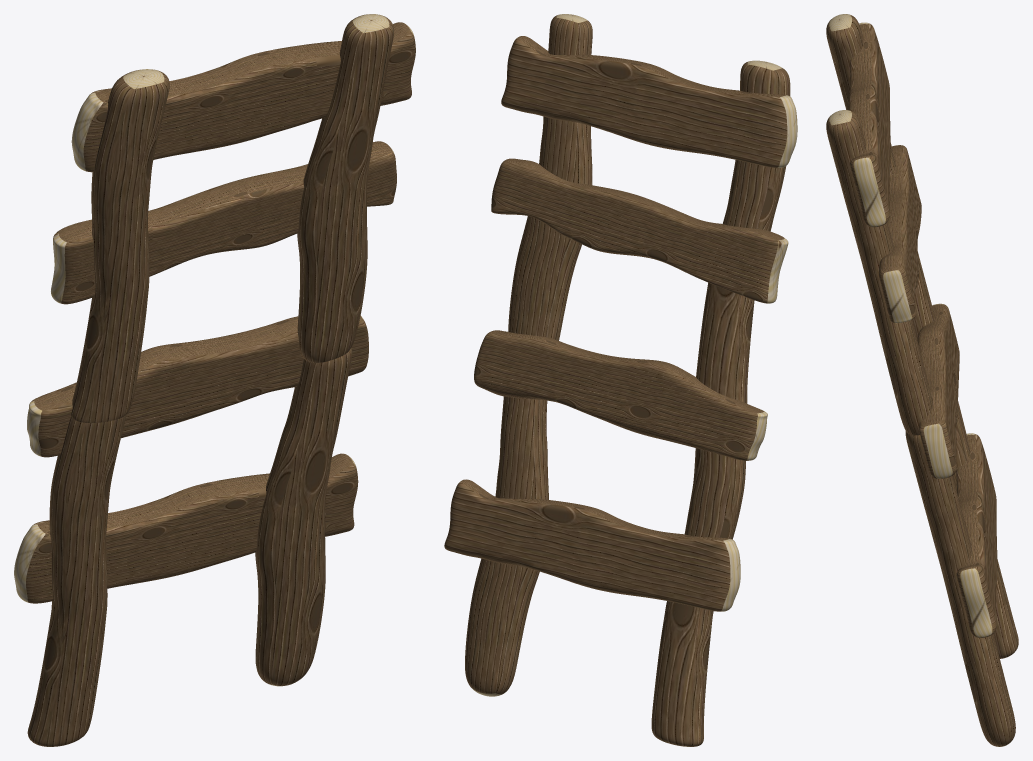
Rendered from CartoonLadder.fbx.
The picture shows the model from 3 angles, left to right: view 1: azimuth 30°, elevation 25°; view 2: azimuth 150°, elevation 25°; view 3: azimuth 270°, elevation 25°; orthographic projection. The views are drawn at different scales.
Visible parts, largest first — view 1: Mesh.003, Mesh, Mesh.002, Mesh.001; view 2: Mesh.001, Mesh.002, Mesh, Mesh.003; view 3: Mesh.001, Mesh.002, Mesh.003, Mesh.
Part boxes in pixels (left/top/right/bottom): Mesh.003: left=71, top=14, right=393, bottom=423; Mesh: left=27, top=347, right=352, bottom=746; Mesh.002: left=51, top=22, right=415, bottom=304; Mesh.001: left=14, top=315, right=368, bottom=603; Mesh.001: left=444, top=330, right=767, bottom=611; Mesh.002: left=491, top=36, right=797, bottom=303; Mesh: left=465, top=396, right=745, bottom=746; Mesh.003: left=508, top=14, right=790, bottom=403; Mesh.001: left=917, top=303, right=997, bottom=637; Mesh.002: left=848, top=22, right=921, bottom=323; Mesh.003: left=826, top=14, right=935, bottom=435; Mesh: left=905, top=401, right=1018, bottom=746.
Size of the model in its own units: 9.3 by 18.81 by 5.21.
Materials: 4 (4 with a texture image).
